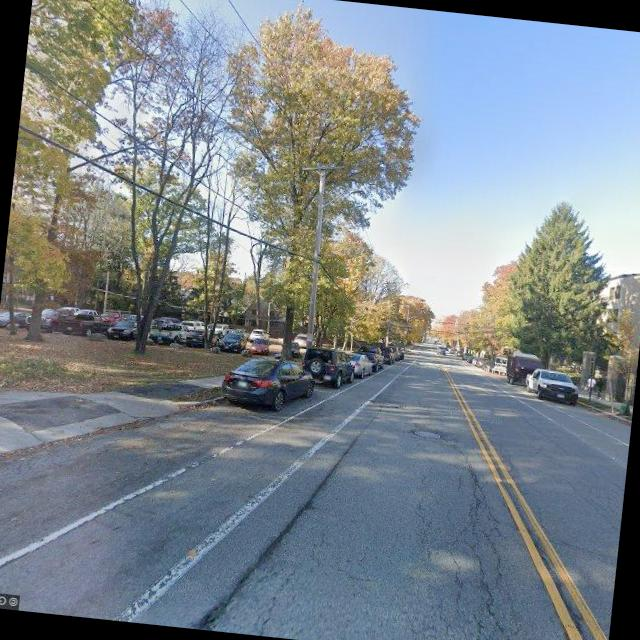crack: (429, 453, 538, 640)
